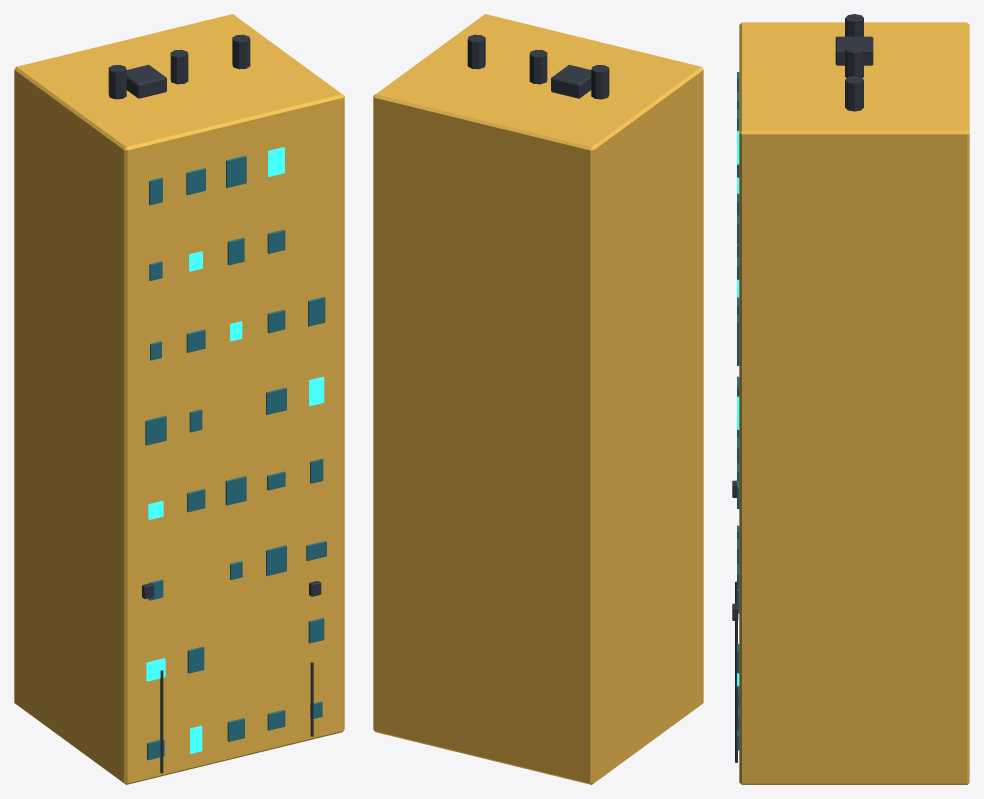
Rendered from building_001_seed11.glb.
3 renders of one model, left to right at view 1: azimuth 30°, elevation 25°; view 2: azimuth 150°, elevation 25°; view 3: azimuth 270°, elevation 25°, orthographic. The views are drawn at different scales.
Parts seen in each view (by area): view 1: building_001_seed11; view 2: building_001_seed11; view 3: building_001_seed11.
Part boxes in pixels (x1,y1,x2,y2): building_001_seed11: (14, 14, 344, 784); building_001_seed11: (373, 14, 703, 784); building_001_seed11: (732, 14, 969, 784).
Size of the model in its own units: 7.71 by 22.19 by 7.01.
